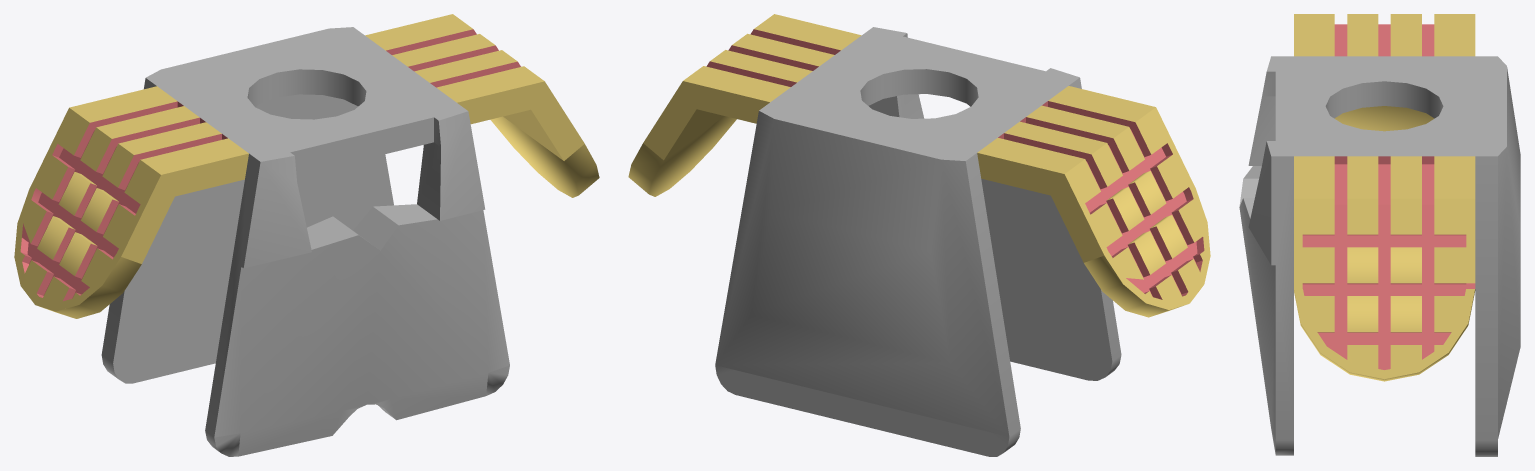
Rendered from Ropa5.fbx.
The picture shows the model from 3 angles, left to right: view 1: azimuth 30°, elevation 25°; view 2: azimuth 150°, elevation 25°; view 3: azimuth 270°, elevation 25°; orthographic projection.
Visible parts, largest first — view 1: SOLID-WHITE_113-material.002, SOLID-WHITE_113-material.001, SOLID-WHITE_113-material.439; view 2: SOLID-WHITE_113-material.002, SOLID-WHITE_113-material.001, SOLID-WHITE_113-material.439; view 3: SOLID-WHITE_113-material.002, SOLID-WHITE_113-material.001, SOLID-WHITE_113-material.439.
Part boxes in pixels (box(x1,y1,x2,y2)): SOLID-WHITE_113-material.002: box(101, 27, 509, 456); SOLID-WHITE_113-material.001: box(14, 14, 599, 318); SOLID-WHITE_113-material.439: box(20, 29, 520, 301); SOLID-WHITE_113-material.002: box(715, 27, 1121, 456); SOLID-WHITE_113-material.001: box(628, 14, 1210, 317); SOLID-WHITE_113-material.439: box(706, 29, 1204, 299); SOLID-WHITE_113-material.002: box(1239, 56, 1520, 456); SOLID-WHITE_113-material.001: box(1294, 14, 1475, 381); SOLID-WHITE_113-material.439: box(1302, 24, 1475, 369).
Bounding box in the file's own units: 360 × 184 × 163.
